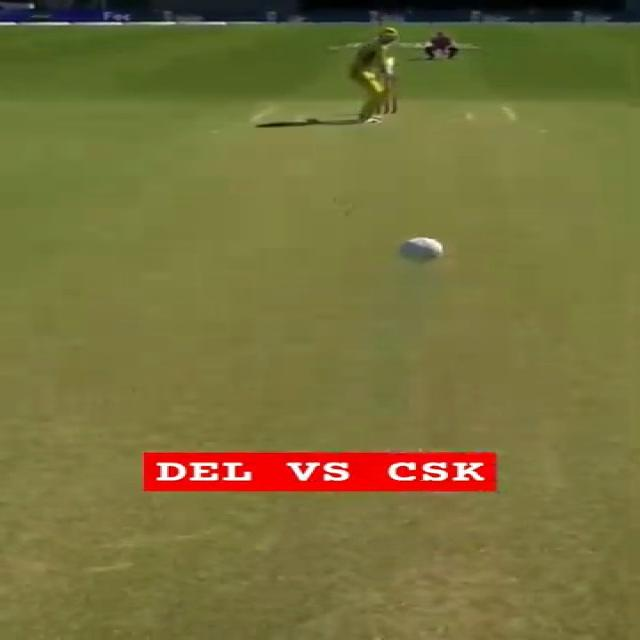ball: (393, 235, 453, 272)
